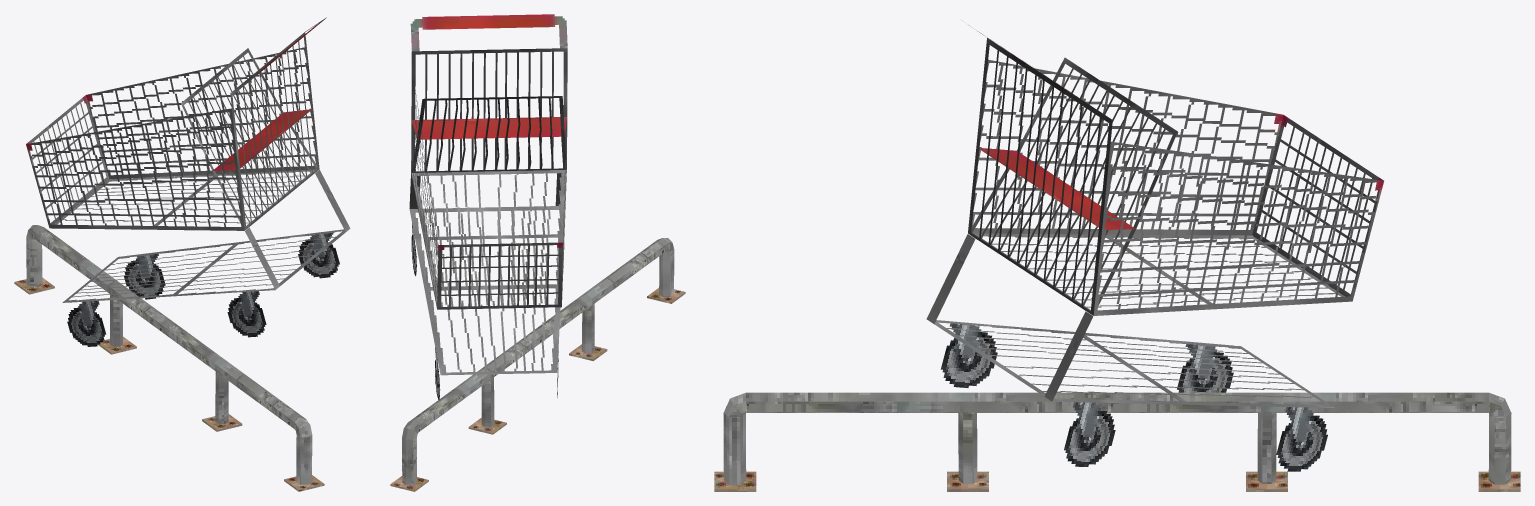
Rendered from YB-Franco-LBD.glb.
3 views of the same model, side by side, from view 1: azimuth 30°, elevation 25°; view 2: azimuth 150°, elevation 25°; view 3: azimuth 270°, elevation 25° (orthographic). The views are drawn at different scales.
Parts seen in each view (by area): view 1: cart_0, rust_30; view 2: cart_0, rust_30; view 3: cart_0, rust_30.
Boxes of the visible parts, box(x1,y1,x2,y2) form: cart_0: box(26, 17, 350, 346); rust_30: box(14, 225, 324, 491); cart_0: box(409, 14, 567, 399); rust_30: box(390, 238, 685, 491); cart_0: box(926, 25, 1383, 471); rust_30: box(714, 392, 1520, 491).
Size of the model in its own units: 1.97 by 2.61 by 3.9.
Materials: 3 (3 with a texture image).
